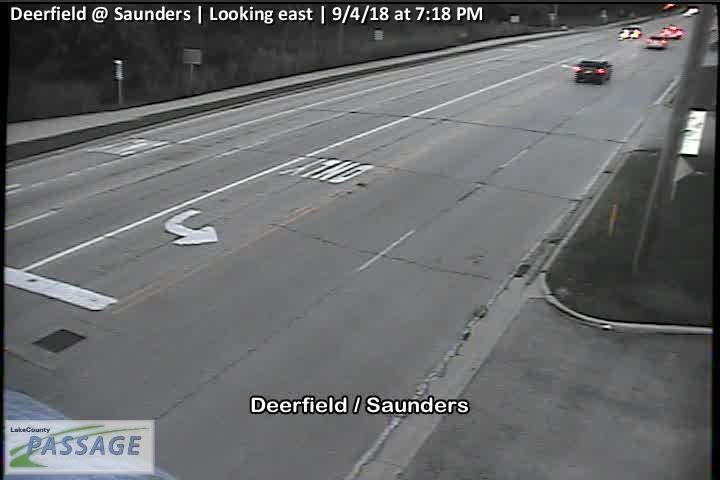SUV: (575, 60, 612, 85)
Sedan: (662, 25, 684, 39), (620, 27, 641, 39), (647, 37, 669, 48)
